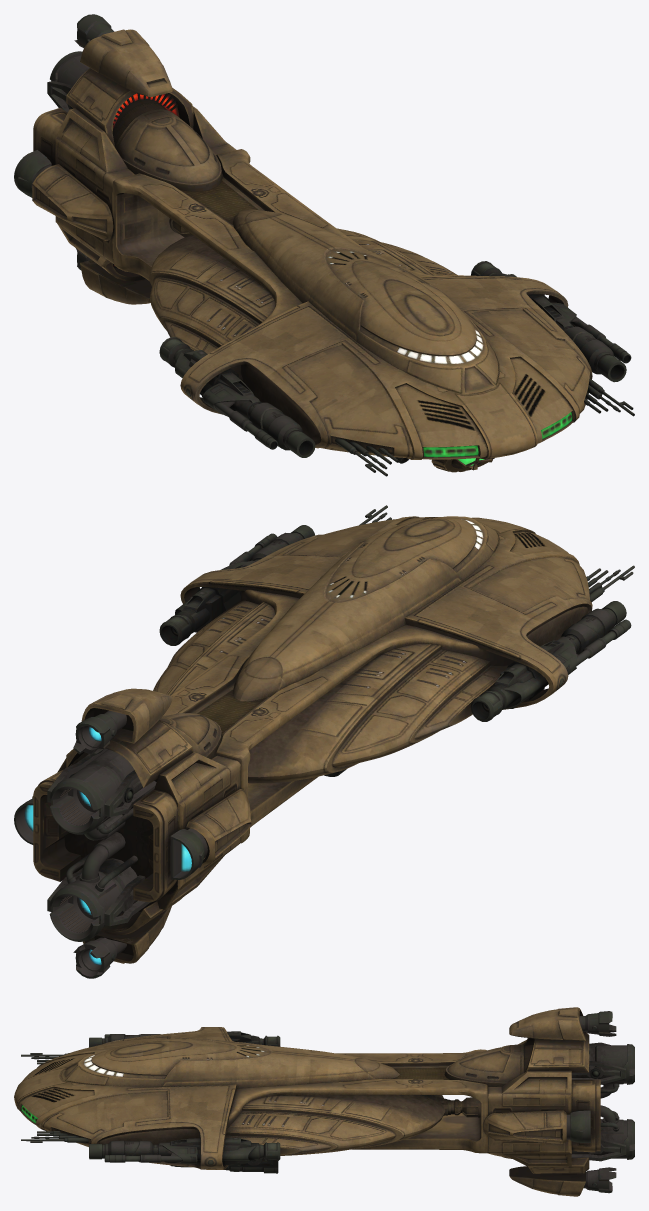
Rendered from star_trek_-_arkonian_military_vessel.glb.
3 renders of one model, top to bottom at view 1: azimuth 30°, elevation 25°; view 2: azimuth 150°, elevation 25°; view 3: azimuth 270°, elevation 25°, orthographic. The views are drawn at different scales.
Parts seen in each view (by area): view 1: Arkonian_Military_Vessel; view 2: Arkonian_Military_Vessel; view 3: Arkonian_Military_Vessel.
Boxes of the visible parts, x1,y1,x2,y2 form: Arkonian_Military_Vessel: [14, 14, 634, 476]; Arkonian_Military_Vessel: [14, 505, 634, 978]; Arkonian_Military_Vessel: [14, 1007, 634, 1196].
Size of the model in its own units: 268 by 176 by 550.
Materials: 1 (1 with a texture image).
